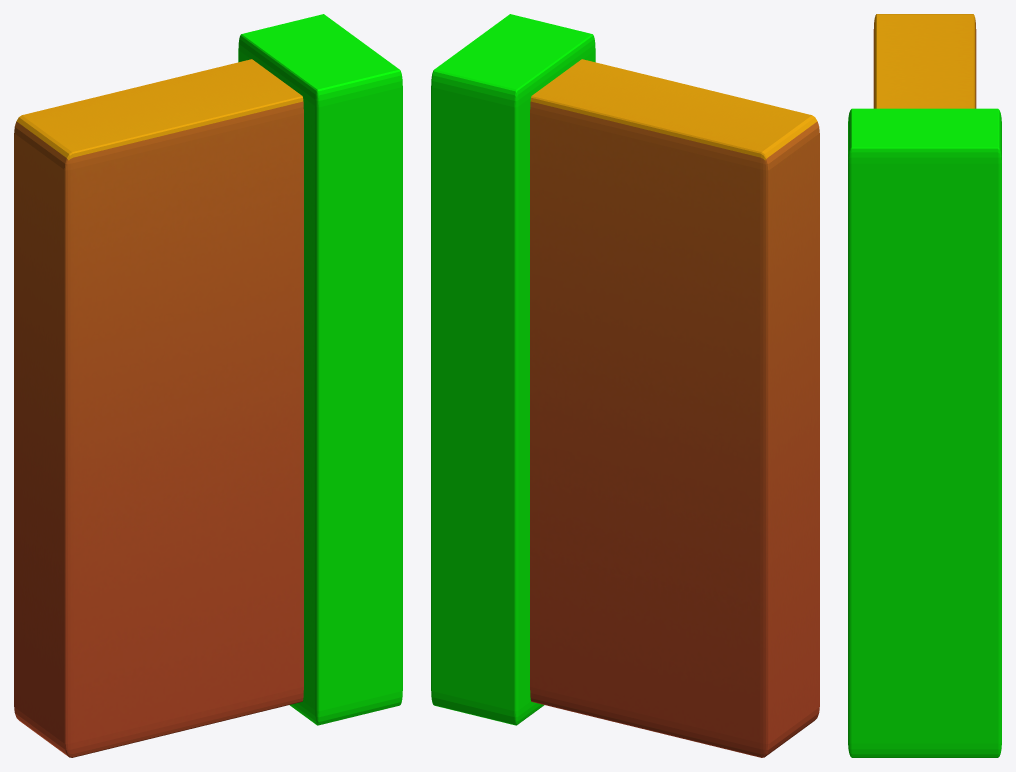
The model's file is Gate.fbx.
3 renders of one model, left to right at view 1: azimuth 30°, elevation 25°; view 2: azimuth 150°, elevation 25°; view 3: azimuth 270°, elevation 25°, orthographic. The views are drawn at different scales.
Parts seen in each view (by area): view 1: Cube, Cube.001; view 2: Cube, Cube.001; view 3: Cube.001, Cube.
Boxes of the visible parts, x1=… form: Cube: x1=14, y1=59, x2=303, y2=757; Cube.001: x1=238, y1=14, x2=402, y2=725; Cube: x1=530, y1=59, x2=819, y2=757; Cube.001: x1=431, y1=14, x2=595, y2=725; Cube.001: x1=848, y1=108, x2=1001, y2=757; Cube: x1=873, y1=14, x2=976, y2=108.
Bounding box in the file's own units: 112 × 210 × 47.96.
